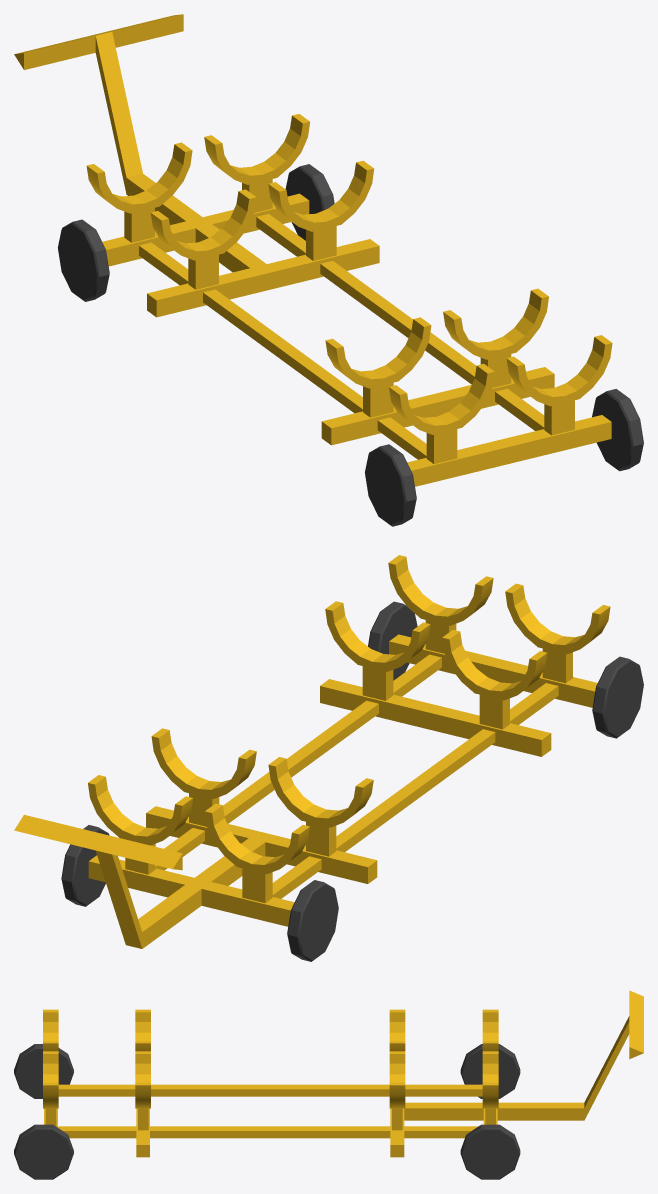
The model's file is model_missile_rack.fbx.
3 renders of one model, top to bottom at view 1: azimuth 30°, elevation 25°; view 2: azimuth 150°, elevation 25°; view 3: azimuth 270°, elevation 25°, orthographic. The views are drawn at different scales.
Parts seen in each view (by area): view 1: model_missile_rack; view 2: model_missile_rack; view 3: model_missile_rack.
Part boxes in pixels (bbox=[...]): model_missile_rack: bbox=[14, 14, 643, 526]; model_missile_rack: bbox=[14, 555, 643, 961]; model_missile_rack: bbox=[14, 990, 643, 1179].
Bounding box in the file's own units: 162 × 106 × 507.
